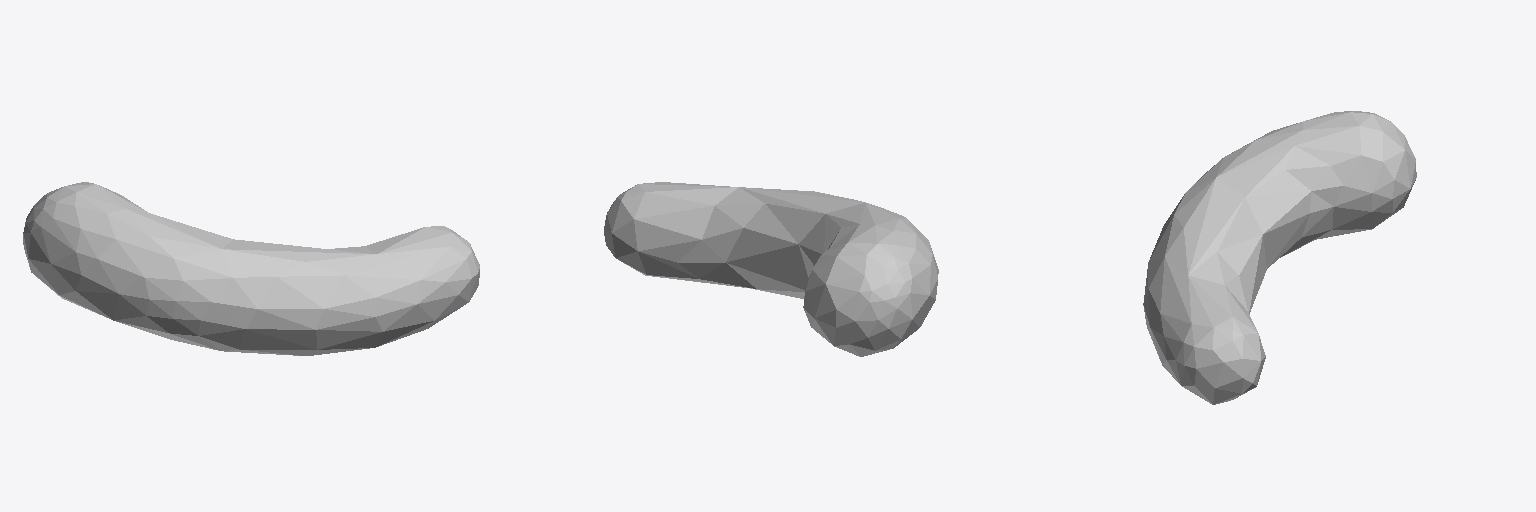
The model's file is precommunicating part of left posterior cerebral artery.obj.
3 views of the same model, side by side, from view 1: azimuth 30°, elevation 25°; view 2: azimuth 150°, elevation 25°; view 3: azimuth 270°, elevation 25° (orthographic).
Visible parts, largest first — view 1: grp1; view 2: grp1; view 3: grp1.
Part boxes in pixels (left/top/right/bottom): grp1: left=23, top=182, right=479, bottom=355; grp1: left=604, top=182, right=938, bottom=356; grp1: left=1143, top=111, right=1416, bottom=404.
Size of the model in its own units: 8.62 by 3.24 by 5.48.